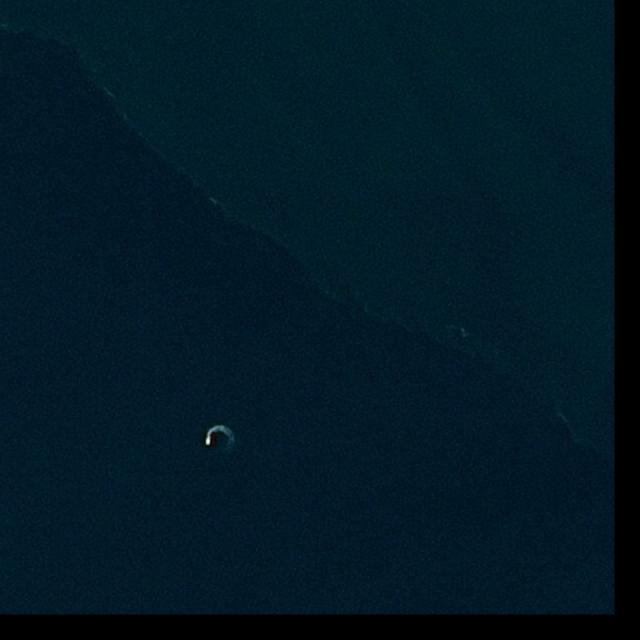ship: (205, 436, 212, 447)
